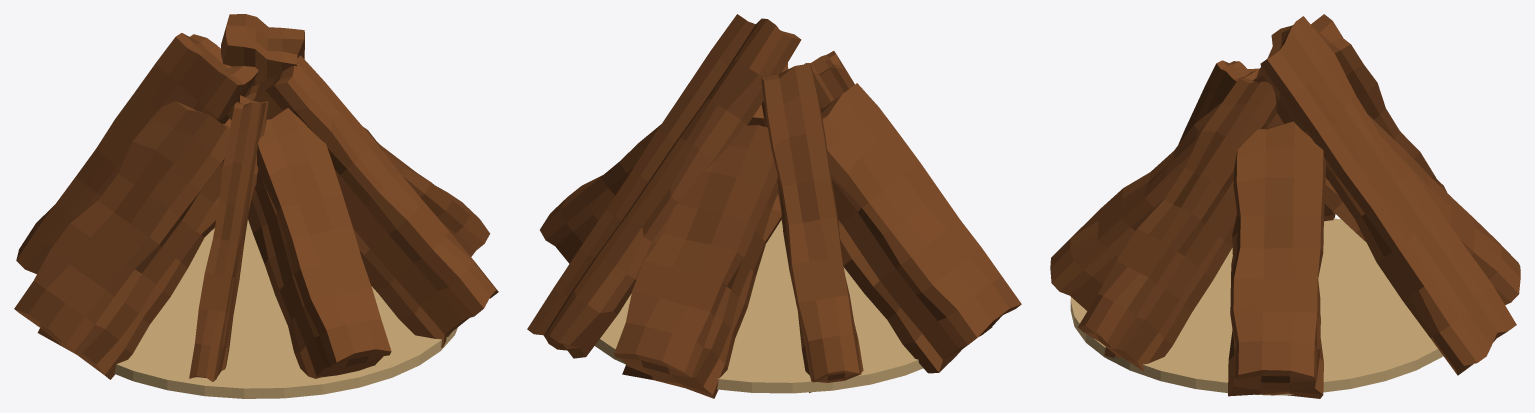
The model's file is Campfire, Less Dirt.fbx.
3 renders of one model, left to right at view 1: azimuth 30°, elevation 25°; view 2: azimuth 150°, elevation 25°; view 3: azimuth 270°, elevation 25°, orthographic. The views are drawn at different scales.
Visible parts, largest first — view 1: Cube.001, Circle; view 2: Cube.001, Circle; view 3: Cube.001, Circle.
Part boxes in pixels (left/top/right/bottom): Cube.001: left=14, top=14, right=498, bottom=381; Circle: left=114, top=220, right=457, bottom=398; Cube.001: left=527, top=14, right=1021, bottom=398; Circle: left=595, top=220, right=923, bottom=393; Cube.001: left=1050, top=14, right=1520, bottom=398; Circle: left=1070, top=218, right=1442, bottom=395.
Bounding box in the file's own units: 113 × 74.12 × 106.
